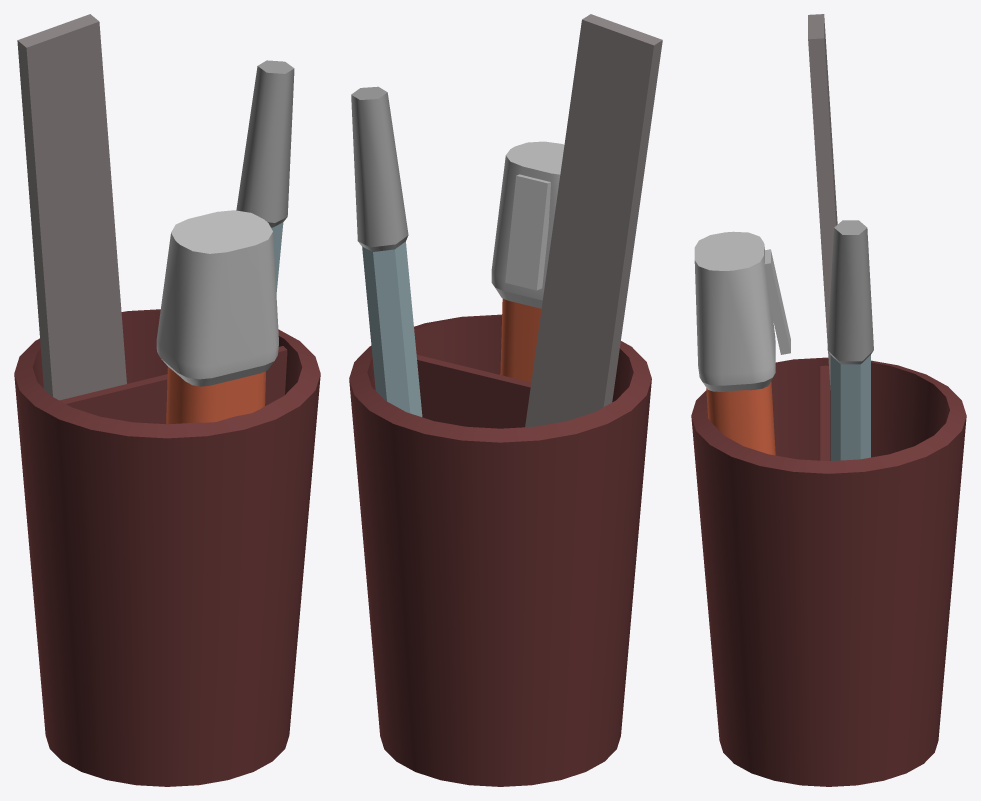
File: glass.fbx
3 views of the same model, side by side, from view 1: azimuth 30°, elevation 25°; view 2: azimuth 150°, elevation 25°; view 3: azimuth 270°, elevation 25° (orthographic). The views are drawn at different scales.
Visible parts, largest first — view 1: glass; view 2: glass; view 3: glass.
Boxes of the visible parts, x1=… form: glass: x1=14, y1=14, x2=320, y2=786; glass: x1=349, y1=14, x2=662, y2=786; glass: x1=691, y1=14, x2=966, y2=786.
Bounding box in the file's own units: 11.14 × 27.54 × 10.3.
